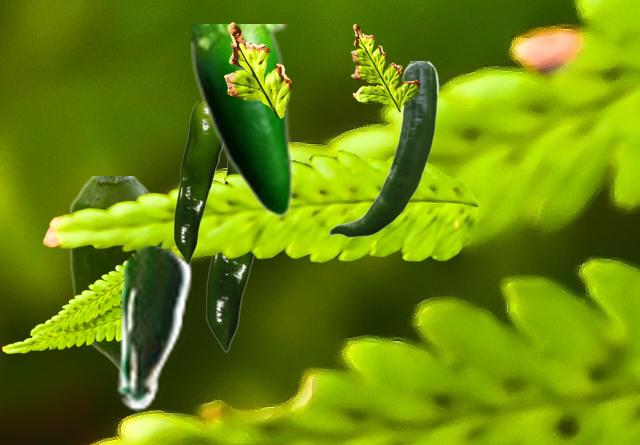green_chili: (191, 24, 293, 217), (328, 61, 438, 237), (68, 176, 152, 370), (113, 243, 192, 410), (205, 163, 254, 351), (173, 101, 221, 263)
